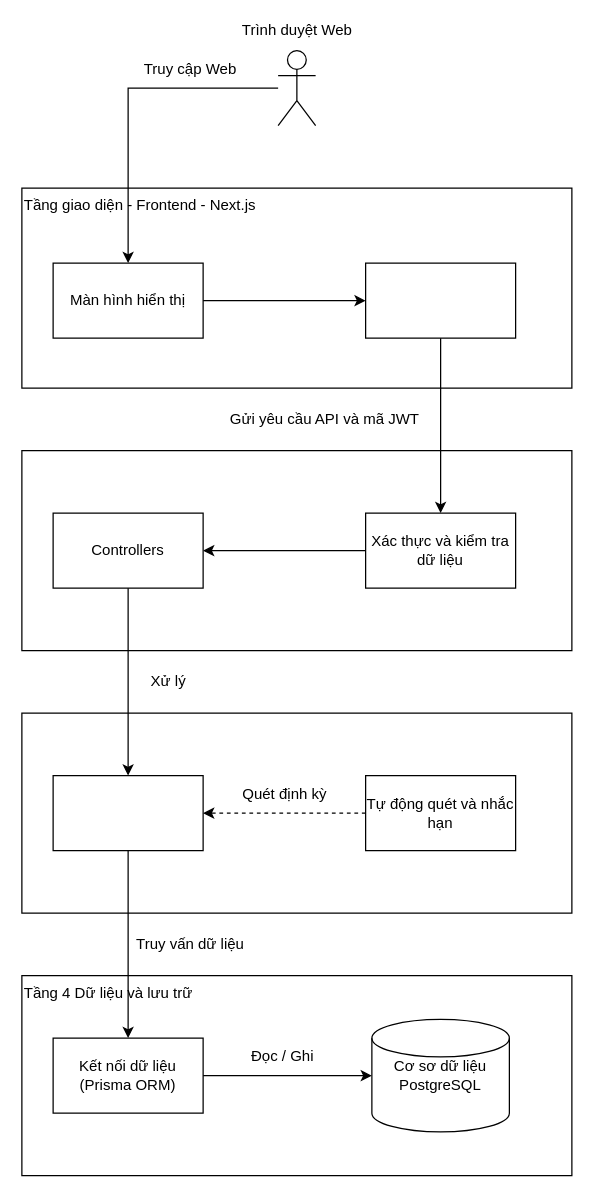
This 594x1198 diagram has some shape labels left out. Here are the shapes that lost their labels. From the top down, the box of each, then its label:
(364, 262, 516, 338): Kết nối API và lưu mà đăng nhập (JWT)
(21, 449, 572, 651): Tầng tiếp nhận và kiểm tra Backend - NestJS
(52, 774, 203, 851): Xử lý nghiệp vụ chính (quản lý các chức năng)
(21, 712, 572, 913): Tầng xử lý nghiệp vụ - NestJS Services
